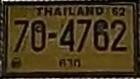0: (30, 19, 45, 51)
2: (110, 18, 126, 50)
4: (60, 18, 74, 50)
6: (93, 18, 108, 50)
7: (76, 18, 91, 51), (14, 19, 28, 51)
TAK: (56, 57, 83, 69)
